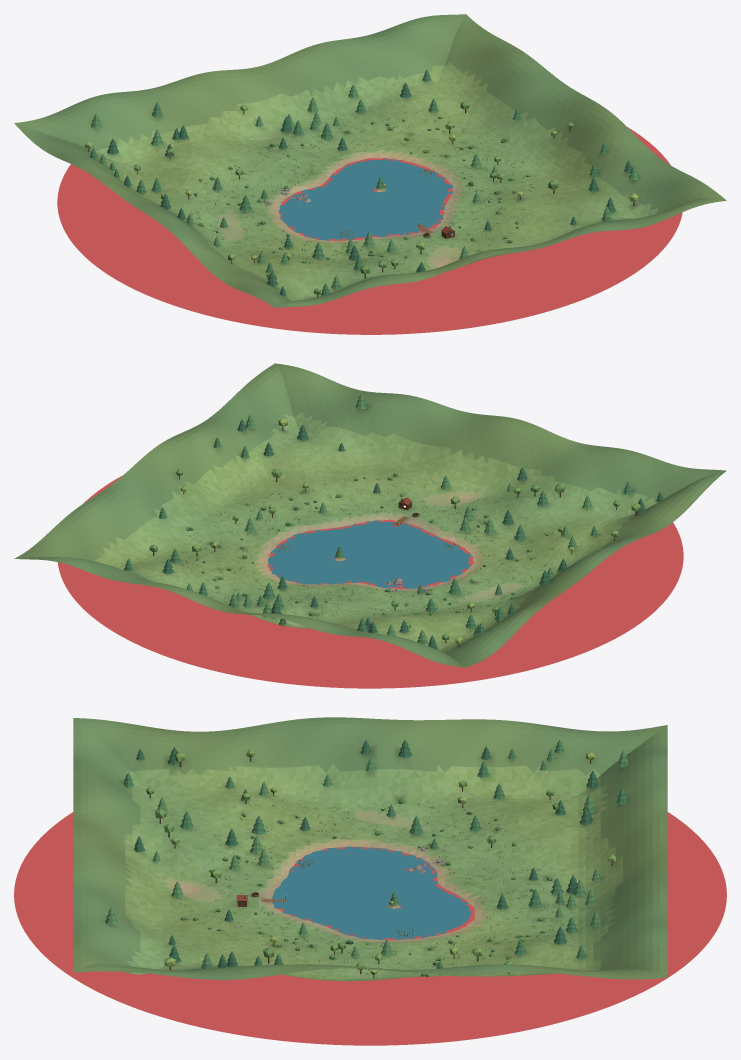
The model's file is lake_01.glb.
The picture shows the model from 3 angles, top to bottom: view 1: azimuth 30°, elevation 25°; view 2: azimuth 150°, elevation 25°; view 3: azimuth 270°, elevation 25°; orthographic projection. The views are drawn at different scales.
Parts seen in each view (by area): view 1: deco_terrain, shore_col, water, deco_trees_sway, deco_grass_sway, deco_bushes; view 2: deco_terrain, shore_col, water, deco_trees_sway, deco_grass_sway, deco_bushes; view 3: deco_terrain, shore_col, water, deco_trees_sway, deco_grass_sway, deco_bushes.
Boxes of the visible parts, x1,y1,x2,y2 form: deco_terrain: (14,14,726,307); shore_col: (57,127,682,334); water: (278,158,452,240); deco_trees_sway: (84,70,639,297); deco_grass_sway: (190,110,533,267); deco_bushes: (194,116,529,263); deco_terrain: (14,363,726,667); shore_col: (57,475,683,688); water: (268,520,472,588); deco_trees_sway: (124,393,663,649); deco_grass_sway: (180,475,564,615); deco_bushes: (180,473,549,615); deco_terrain: (73,717,667,981); shore_col: (14,812,726,1045); water: (272,846,472,940); deco_trees_sway: (105,739,628,978); deco_grass_sway: (171,799,564,975); deco_bushes: (181,799,552,977).
Size of the model in its own units: 240 by 25.48 by 240.
